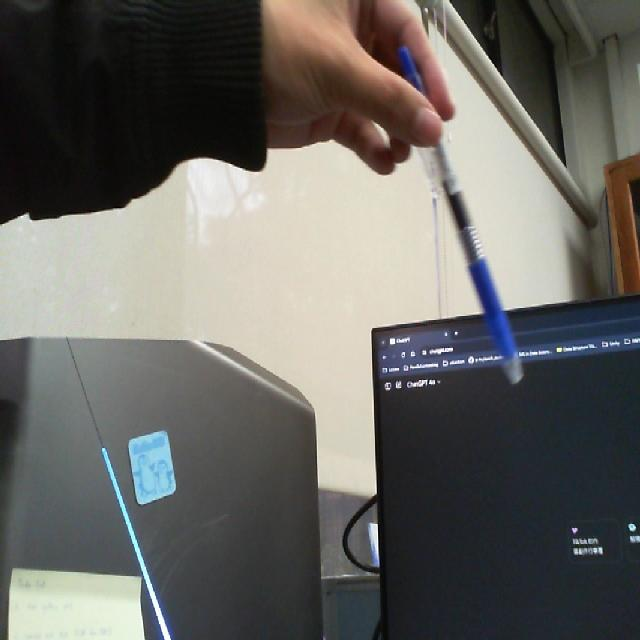Pen: (380, 38, 533, 402)
